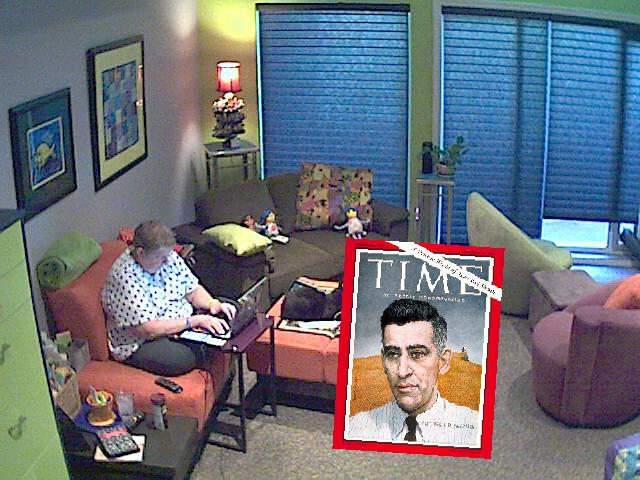times: (330, 236, 506, 460)
